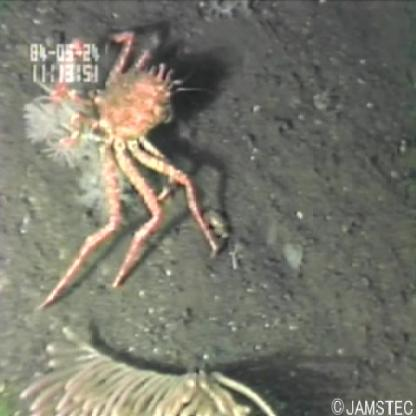Bio: (17, 25, 230, 315), (12, 322, 282, 416)
